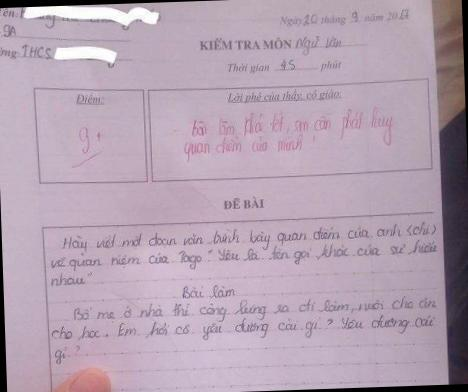text: (50, 309, 436, 350), (49, 238, 438, 276), (60, 219, 438, 257), (72, 292, 437, 329), (188, 103, 397, 154), (198, 32, 344, 62), (182, 132, 305, 166), (278, 5, 412, 30), (226, 55, 342, 77), (225, 87, 341, 106), (0, 39, 53, 64), (180, 282, 236, 303), (74, 123, 104, 158), (220, 194, 265, 212), (48, 271, 92, 289), (50, 343, 80, 366), (74, 93, 104, 109), (0, 19, 17, 40), (0, 7, 19, 19)
